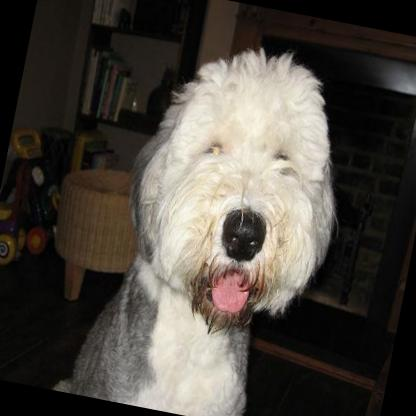Old_English_sheepdog: (48, 12, 373, 416)
